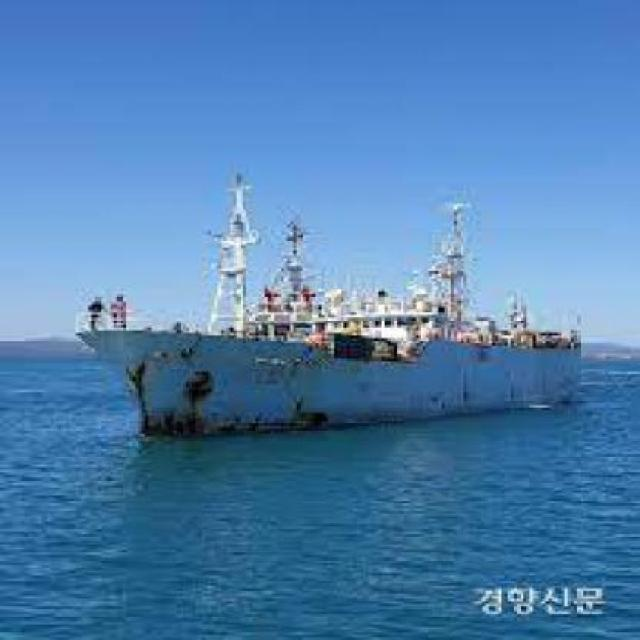fish-b: (64, 163, 604, 448)
